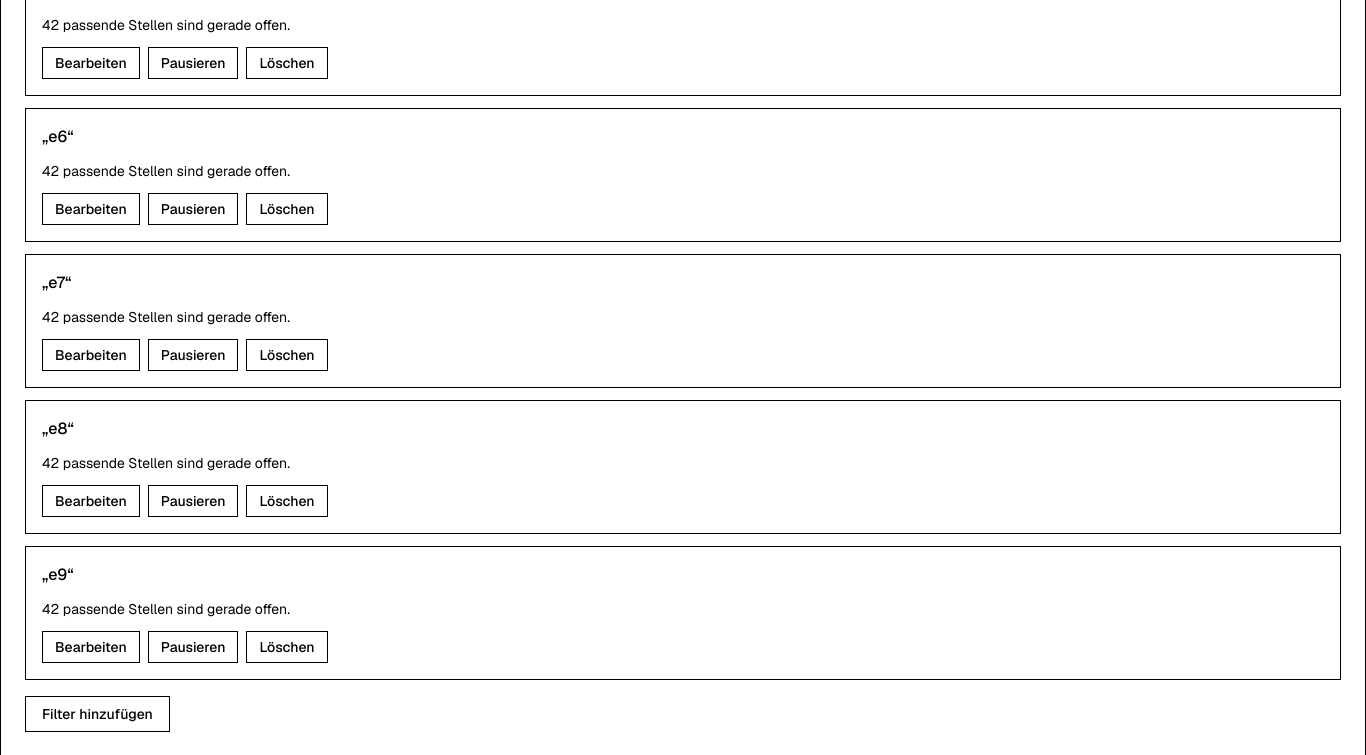
it: SuchprofileBereich › nennt die Obergrenze erst, wenn jemand einen elften Filter anlegen will
The width and height of the screenshot is (1366, 755).
(page scrolled)
Expected: the text "höchstens 10 Filter" is not shown
Click the button "Filter hinzufügen" at (97, 714), box [25,696,170,732]
(page scrolled)
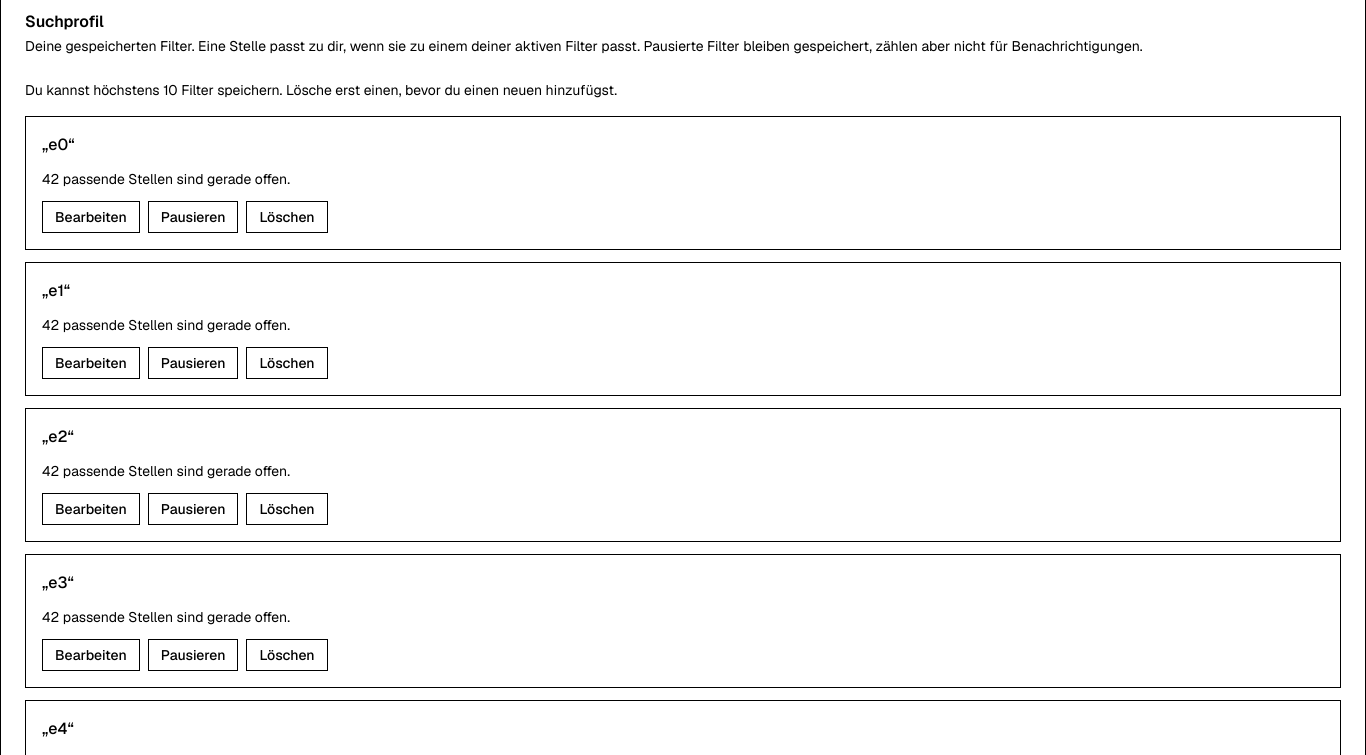
Result: the text "Du kannst höchstens 10 Filter speichern" is shown at [25,81,617,99]
